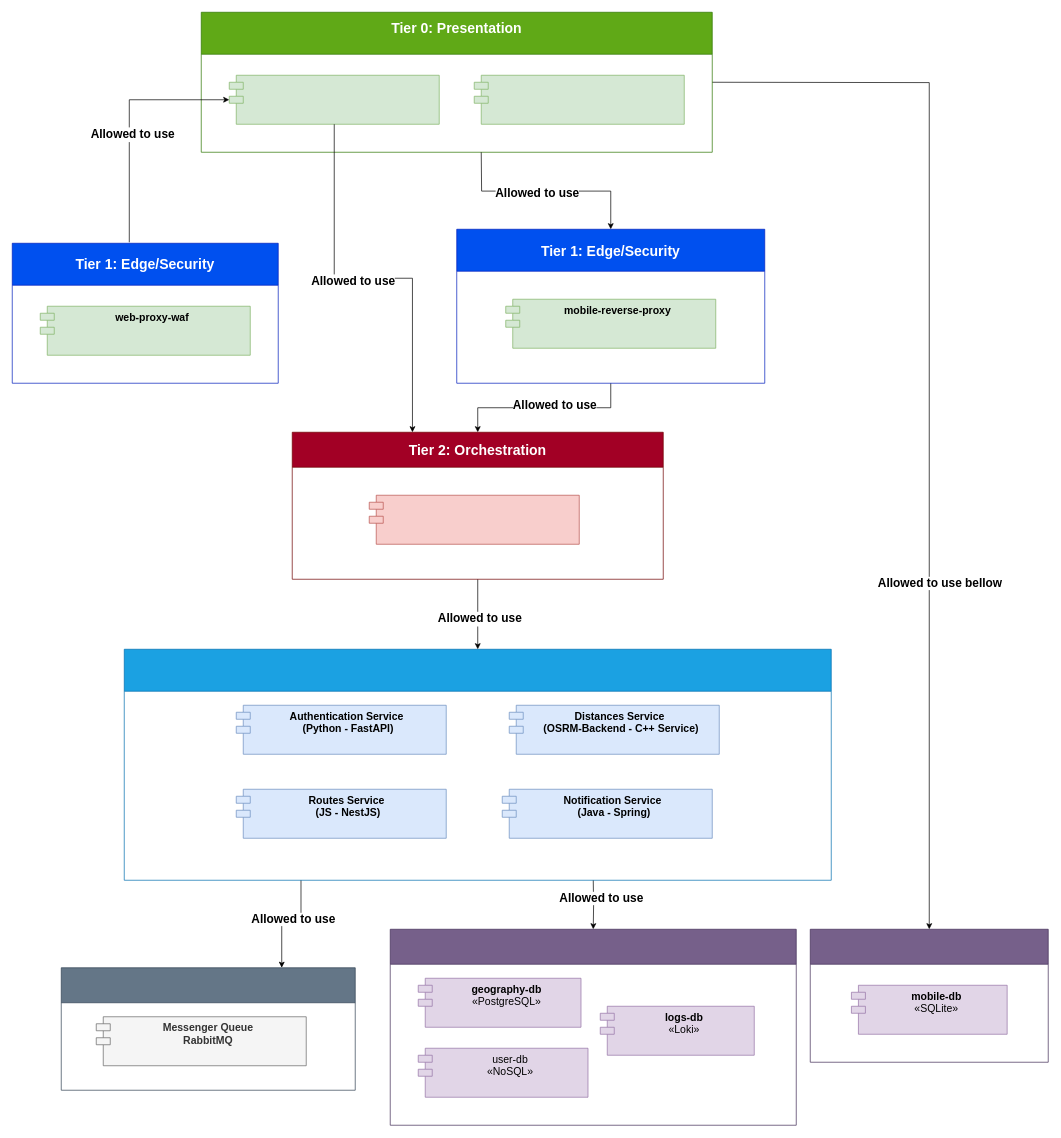
The diagram is 1061 pixels wide and 1138 high, and some of its shapes have lost their labels. Here are the shapes that lost their labels. From the top down, the box of each, then its label:
(229, 75, 439, 124): Frontend Web (NextJS SSR)
(474, 75, 684, 124): Frontend Mobile (Kotlin)
(369, 495, 579, 544): API Gateway (Express-gatewat)
(124, 649, 831, 880): Tier 3: Logic
(810, 929, 1048, 1062): Tier 6 Mobile data
(61, 967, 355, 1090): Tier 4: Async Communication
(390, 929, 796, 1125): Tier 5 Data
